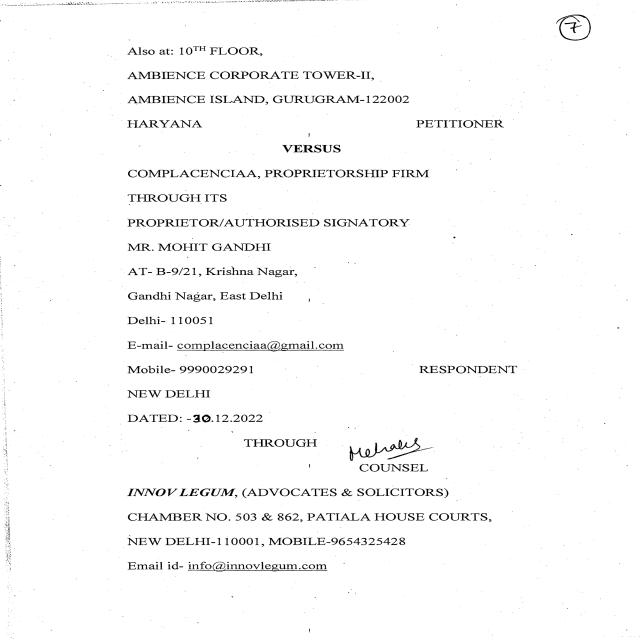page-number: (411, 5, 635, 116)
